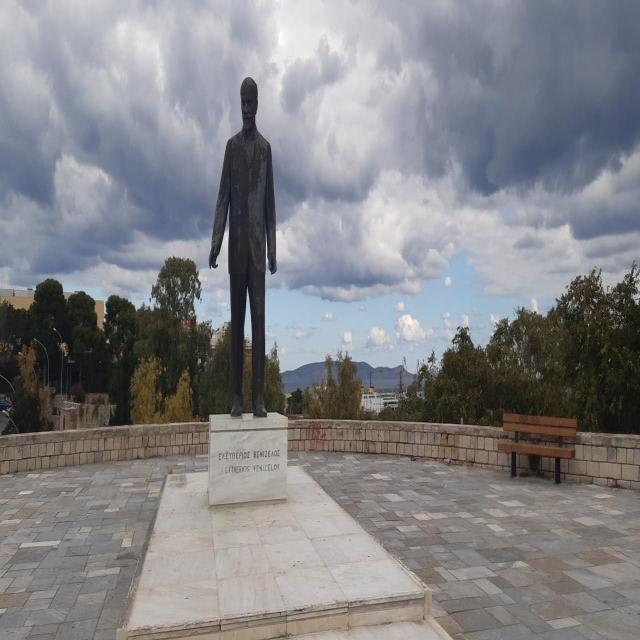Venizelos: (210, 75, 278, 419)
